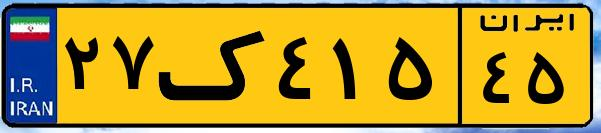1: (330, 28, 385, 110)
2: (57, 26, 110, 100)
4: (270, 28, 330, 110), (475, 38, 525, 113)
5: (385, 28, 445, 110), (525, 38, 570, 115)
7: (110, 28, 158, 98)
ک: (158, 12, 270, 120)
